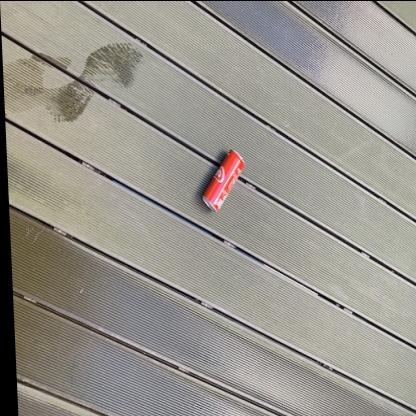trash: (203, 150, 244, 211)
